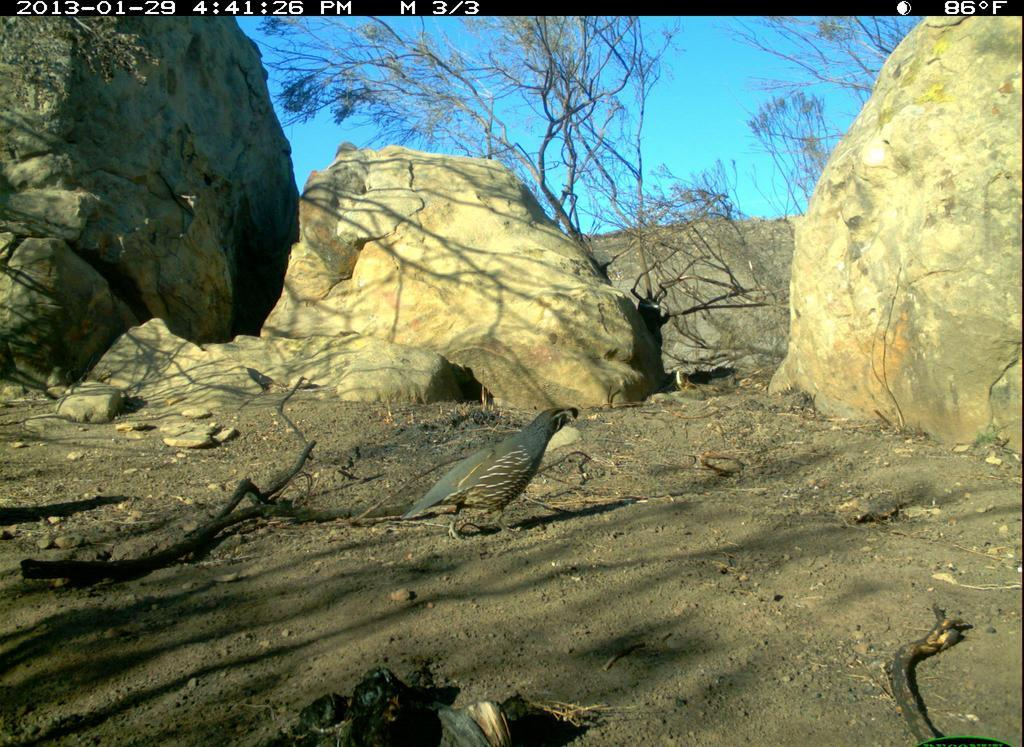bird: (402, 397, 589, 550)
